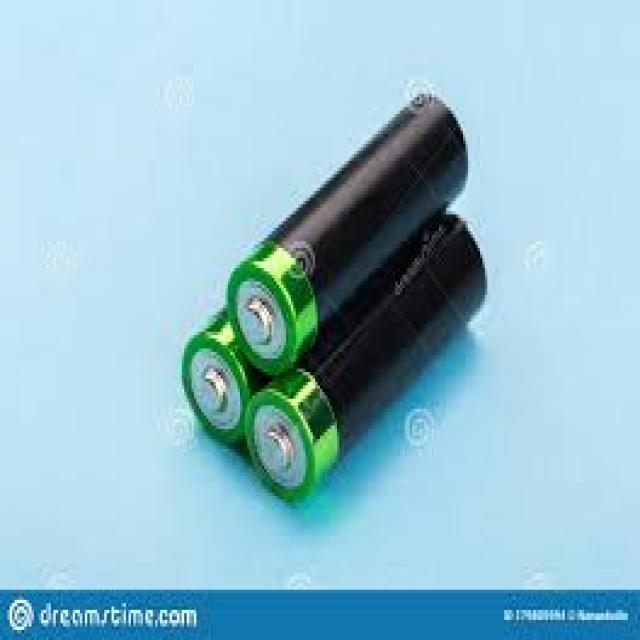non-organic waste: (246, 208, 488, 504), (225, 90, 468, 380)
